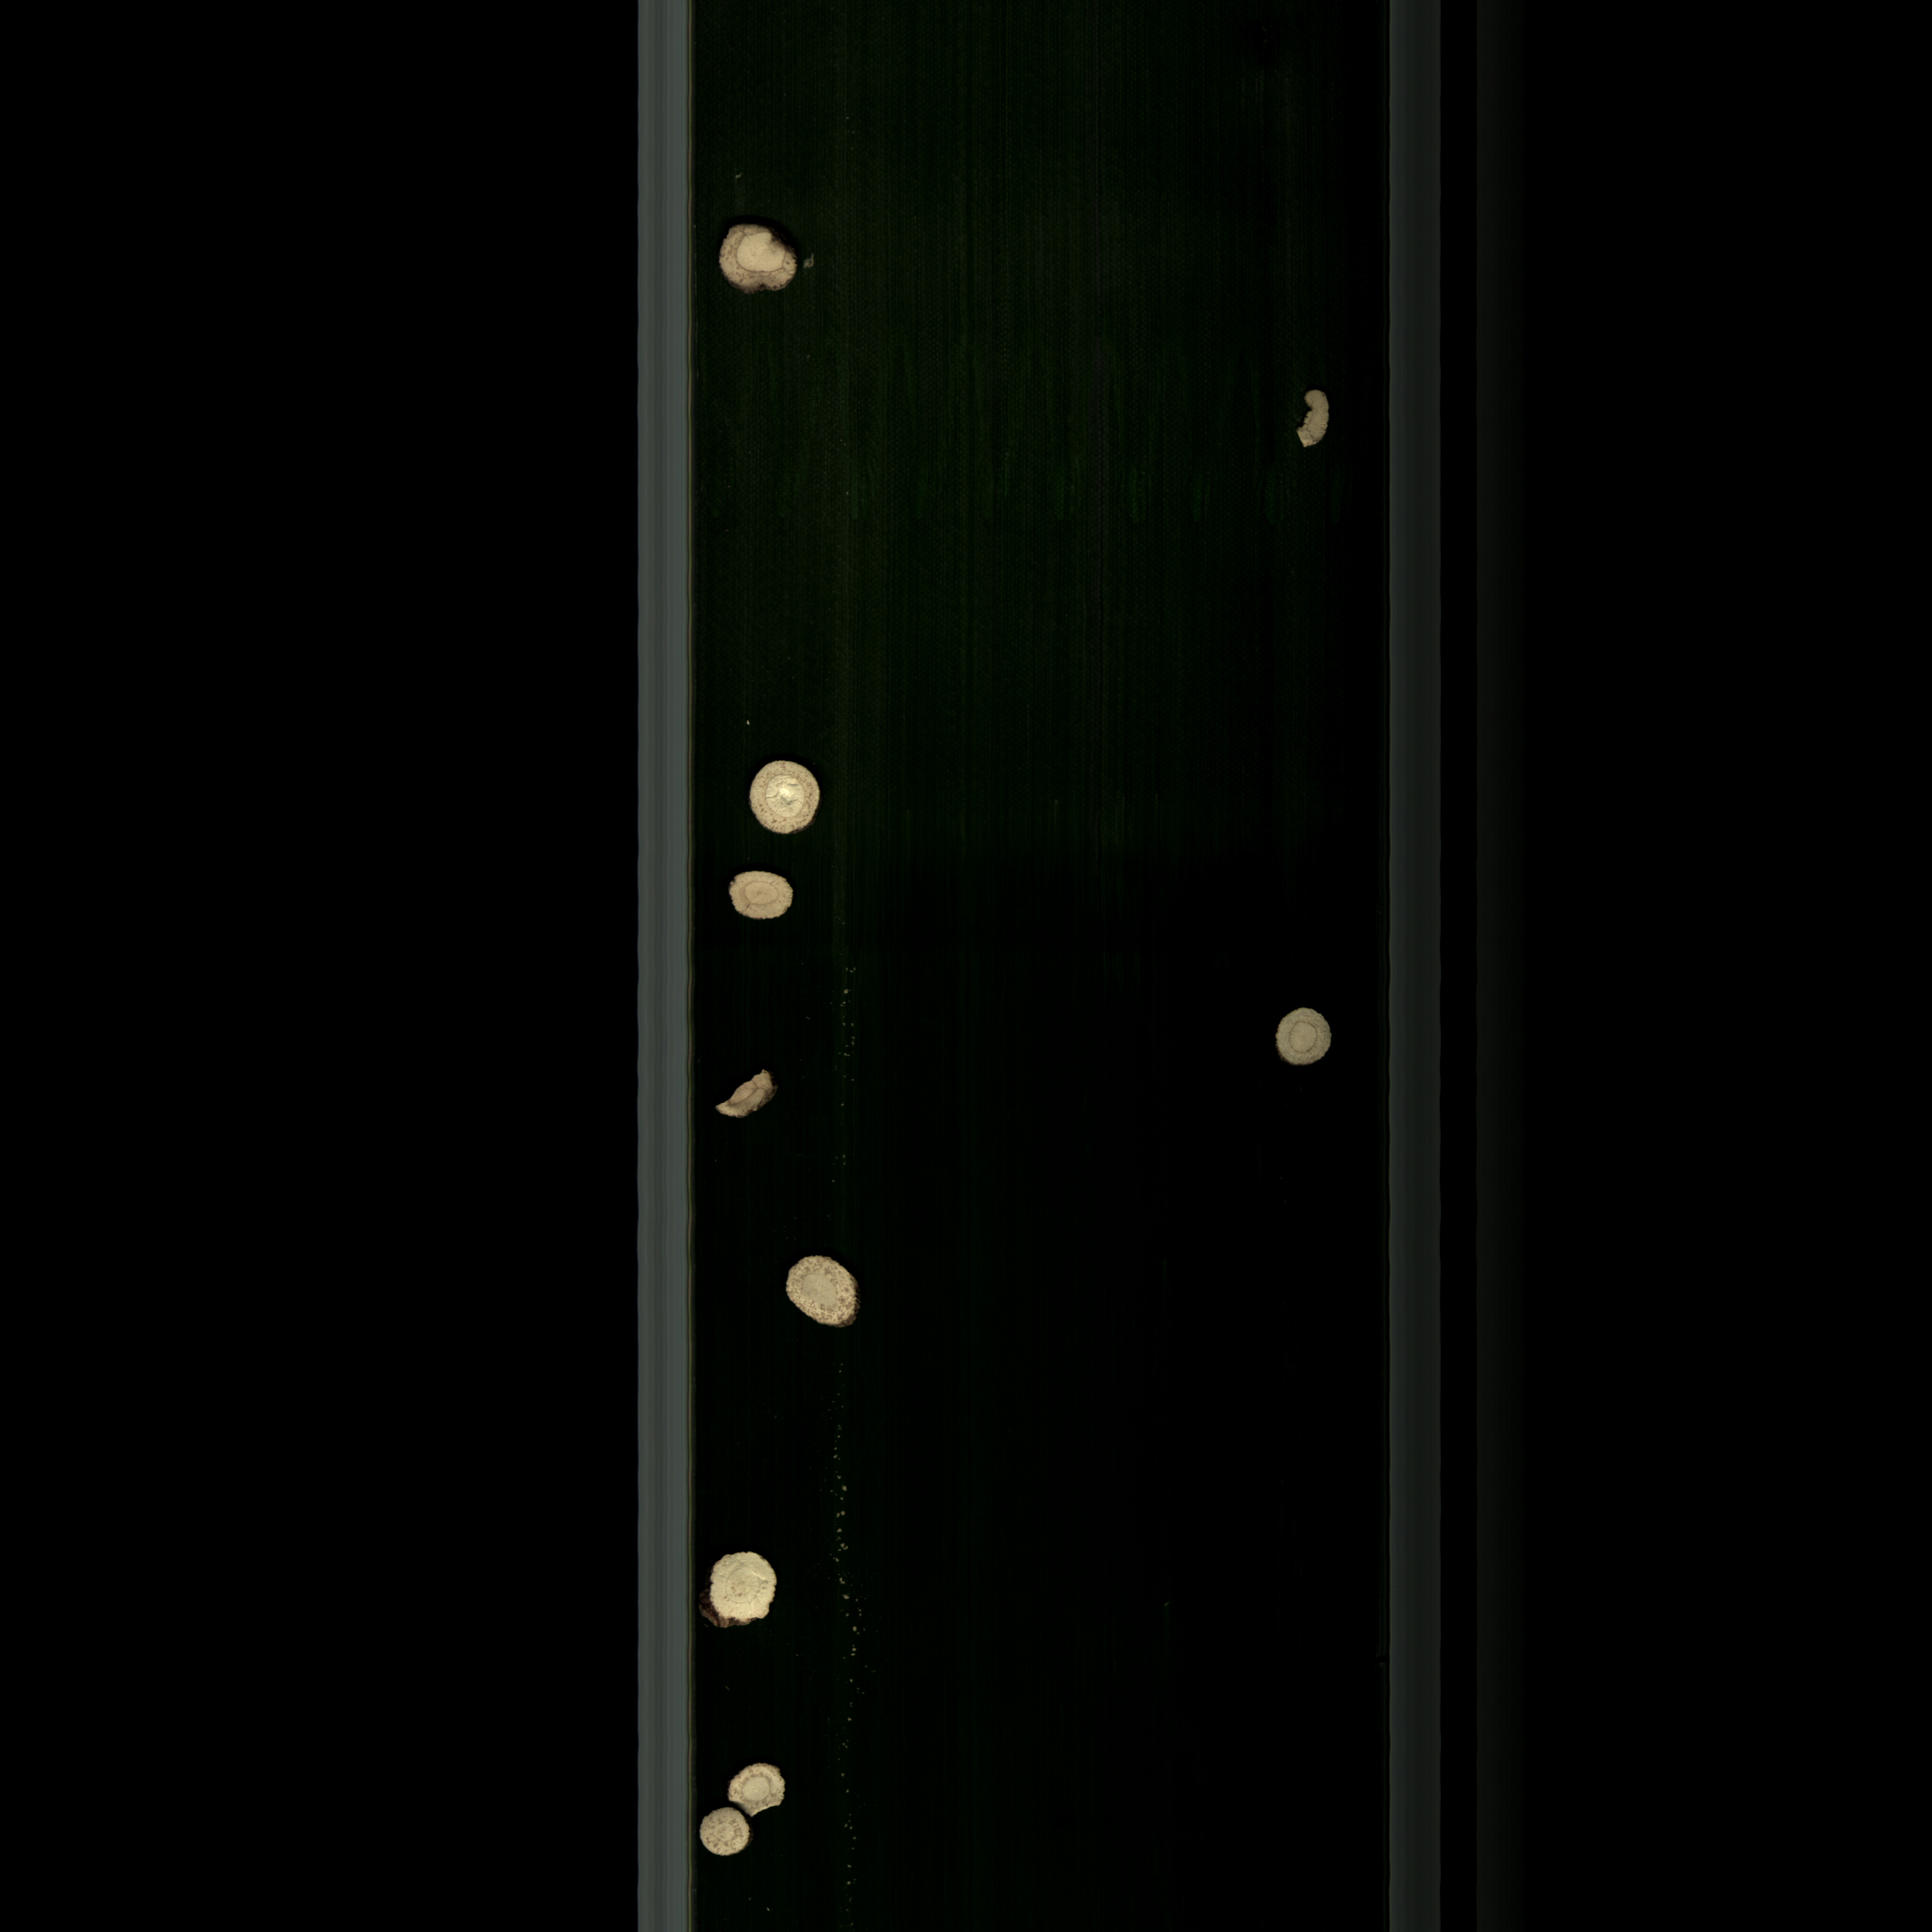debris: (718, 1757, 805, 1822)
distortion: (1281, 368, 1345, 462), (706, 1056, 780, 1129)
moldy: (706, 216, 819, 303)
